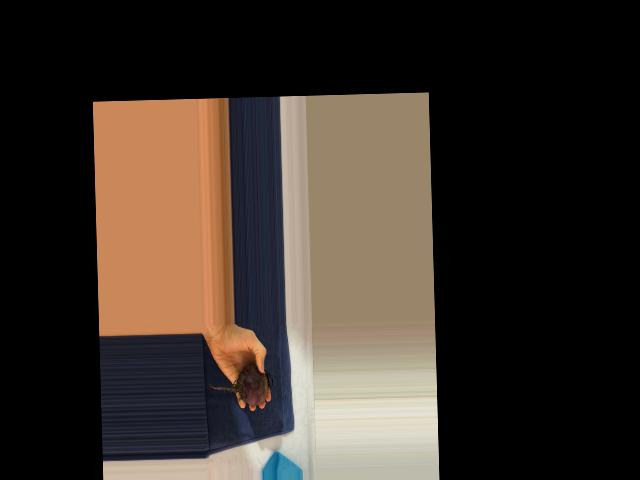beet: (208, 364, 273, 407)
